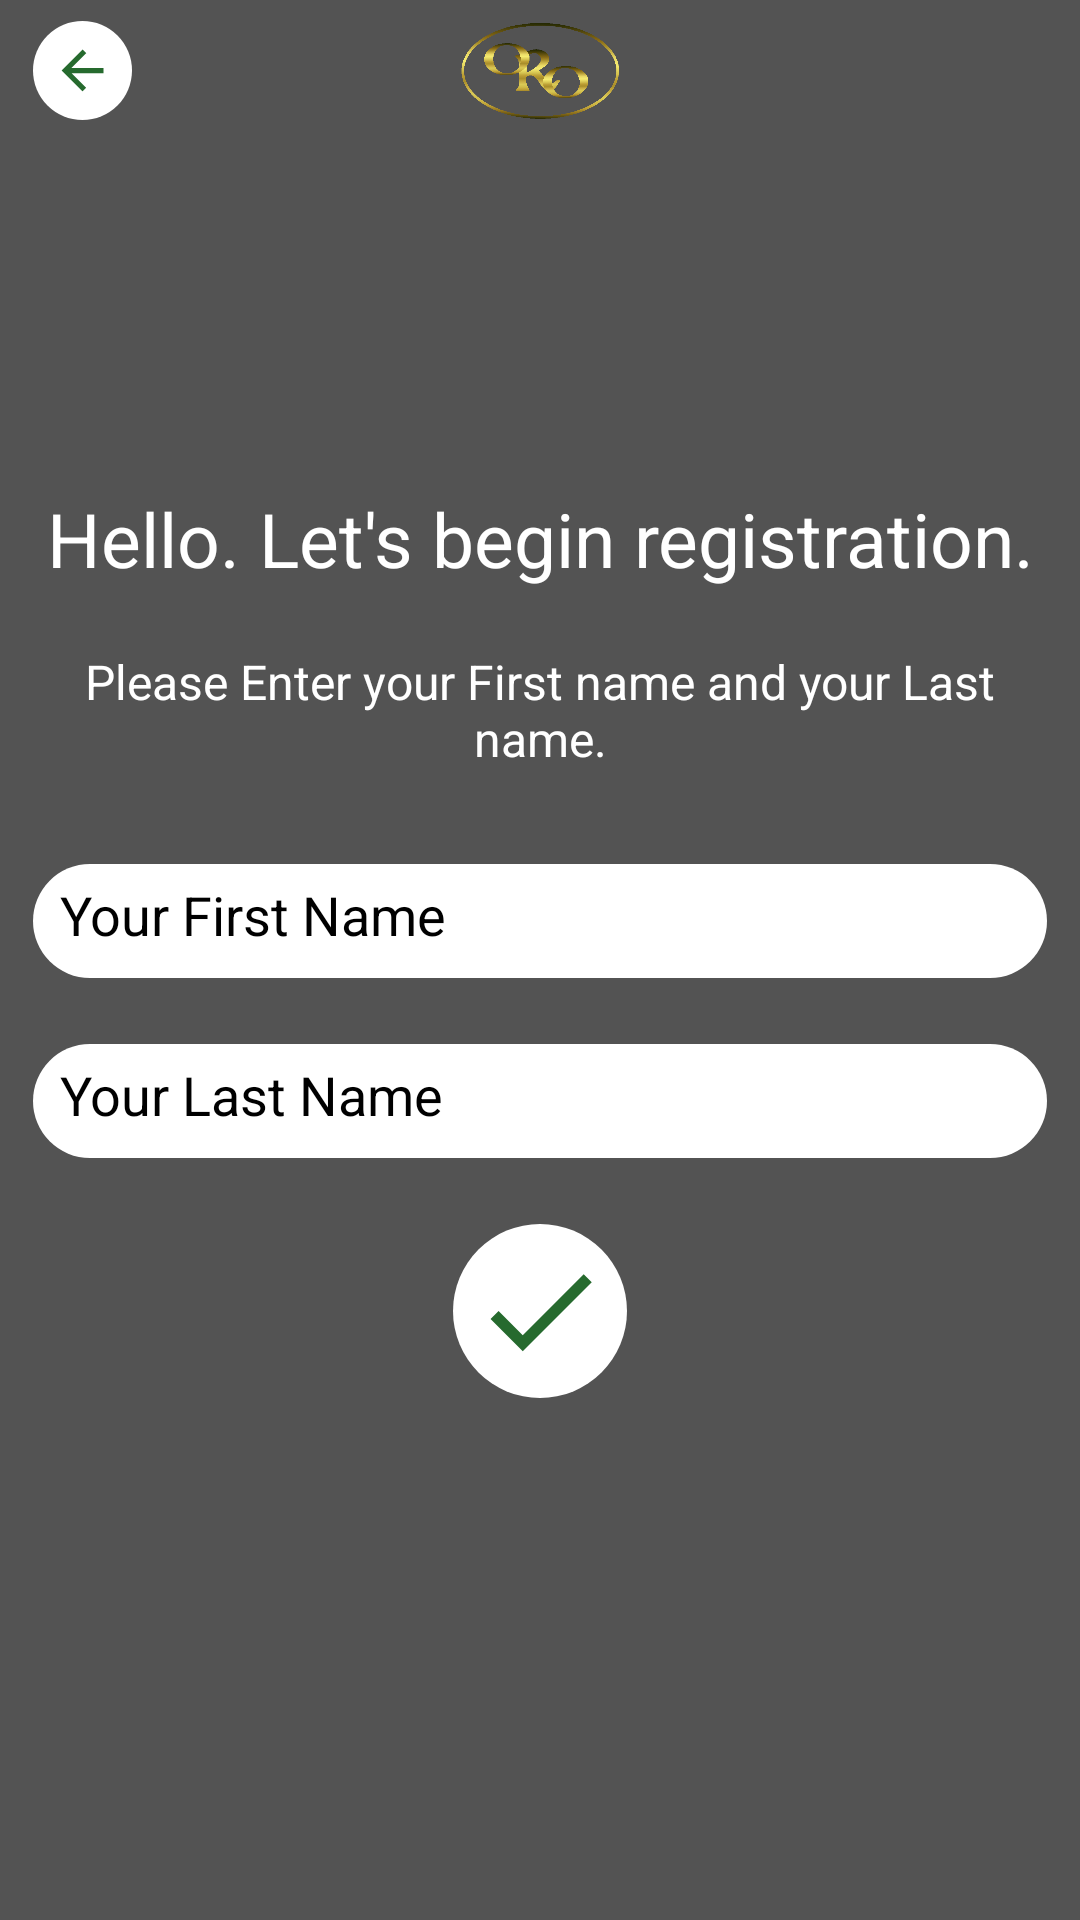

Icon bounding boxes for this 1080 × 1920 phone screenshot, format (x1,y1,x2,y2):
arrow back: (33,21,132,120)
done: (453,1224,627,1398)
